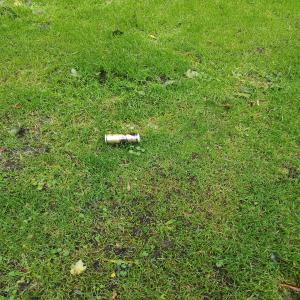Can: (101, 131, 146, 149)
